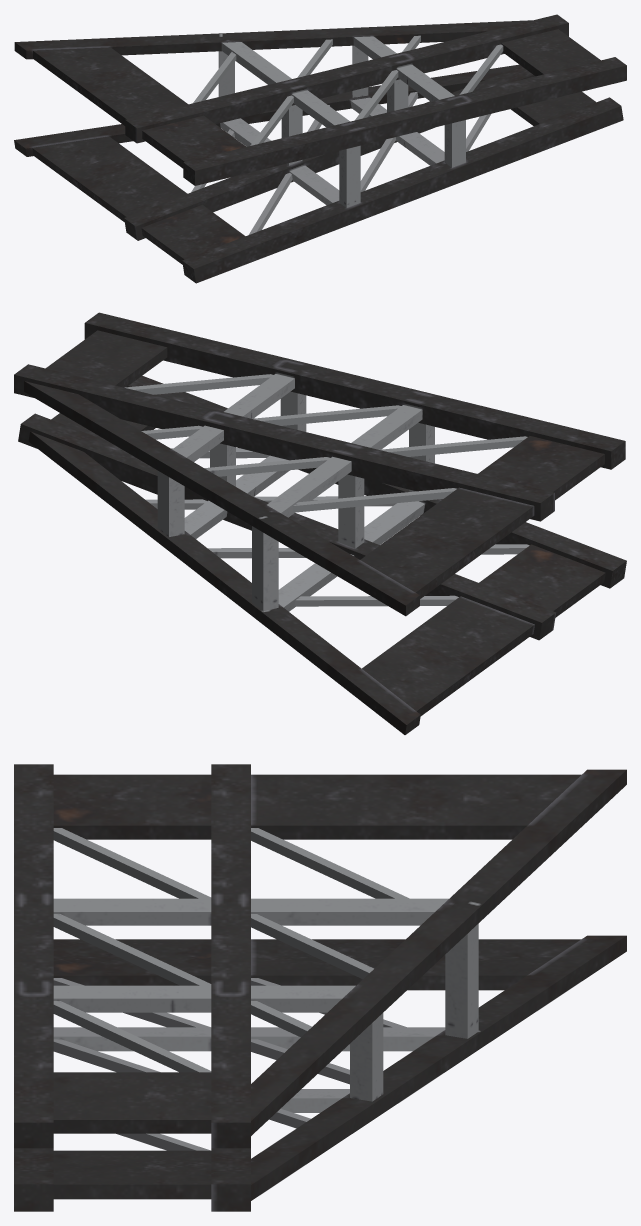
File: beam_s_1.fbx
The picture shows the model from 3 angles, top to bottom: view 1: azimuth 30°, elevation 25°; view 2: azimuth 150°, elevation 25°; view 3: azimuth 270°, elevation 25°; orthographic projection. The views are drawn at different scales.
Parts seen in each view (by area): view 1: beam_s_1; view 2: beam_s_1; view 3: beam_s_1.
Boxes of the visible parts, x1,y1,x2,y2 form: beam_s_1: (14, 14, 626, 283); beam_s_1: (14, 312, 626, 734); beam_s_1: (14, 764, 626, 1211).
Bounding box in the file's own units: 7.24 × 1.8 × 5.22.
